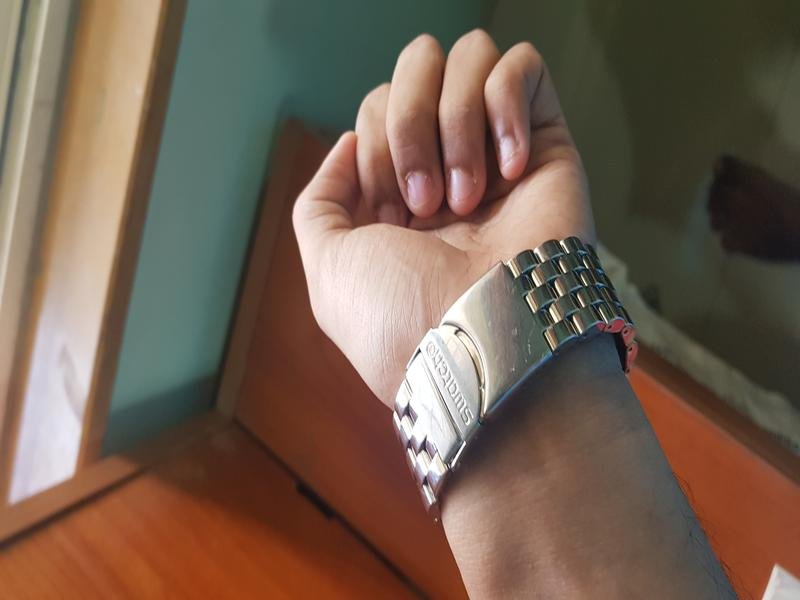watch: (355, 226, 655, 524)
